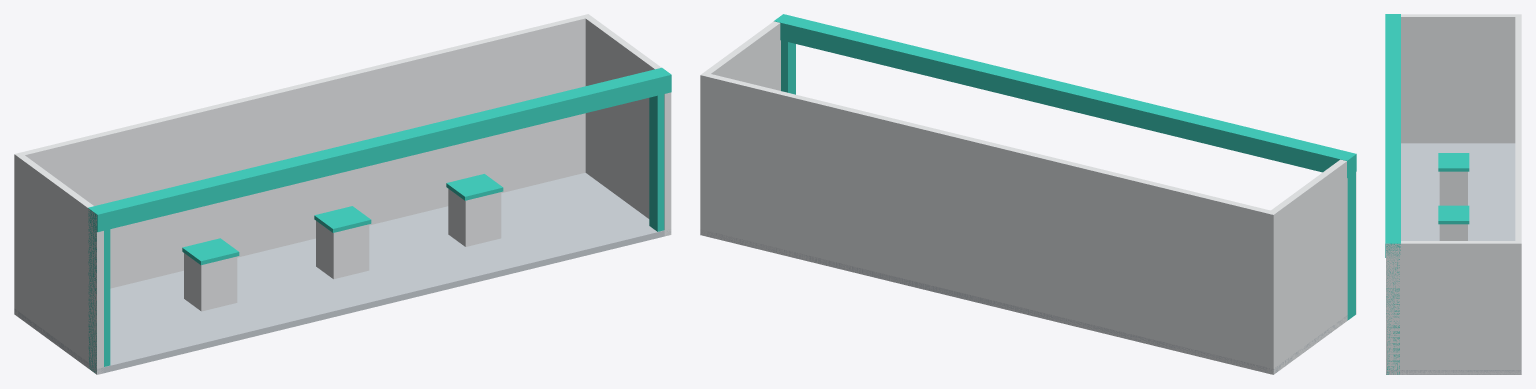
3 renders of one model, left to right at view 1: azimuth 30°, elevation 25°; view 2: azimuth 150°, elevation 25°; view 3: azimuth 270°, elevation 25°, orthographic. The views are drawn at different scales.
Visible parts, largest first — view 1: Exhibition Booth Concept; view 2: Exhibition Booth Concept; view 3: Exhibition Booth Concept.
Boxes of the visible parts, left/top/right/bottom form: Exhibition Booth Concept: left=14, top=14, right=671, bottom=374; Exhibition Booth Concept: left=700, top=14, right=1356, bottom=374; Exhibition Booth Concept: left=1385, top=14, right=1521, bottom=374.
Size of the model in its own units: 12 by 3.2 by 3.01.
